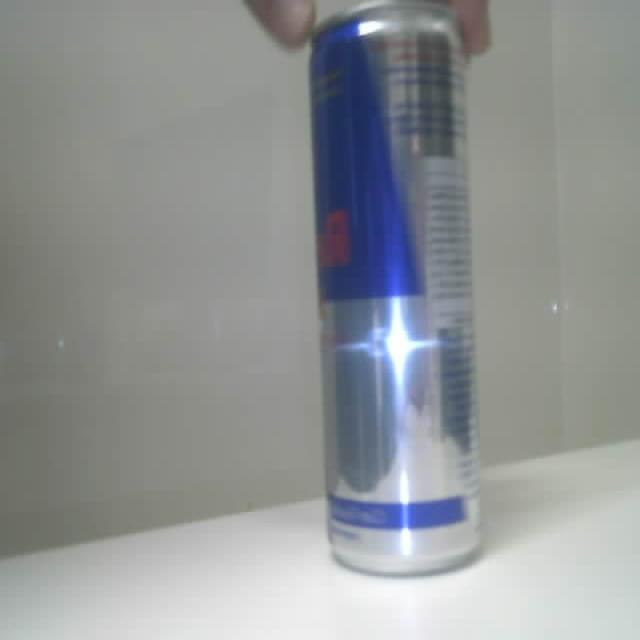redbull can: (310, 2, 478, 574)
